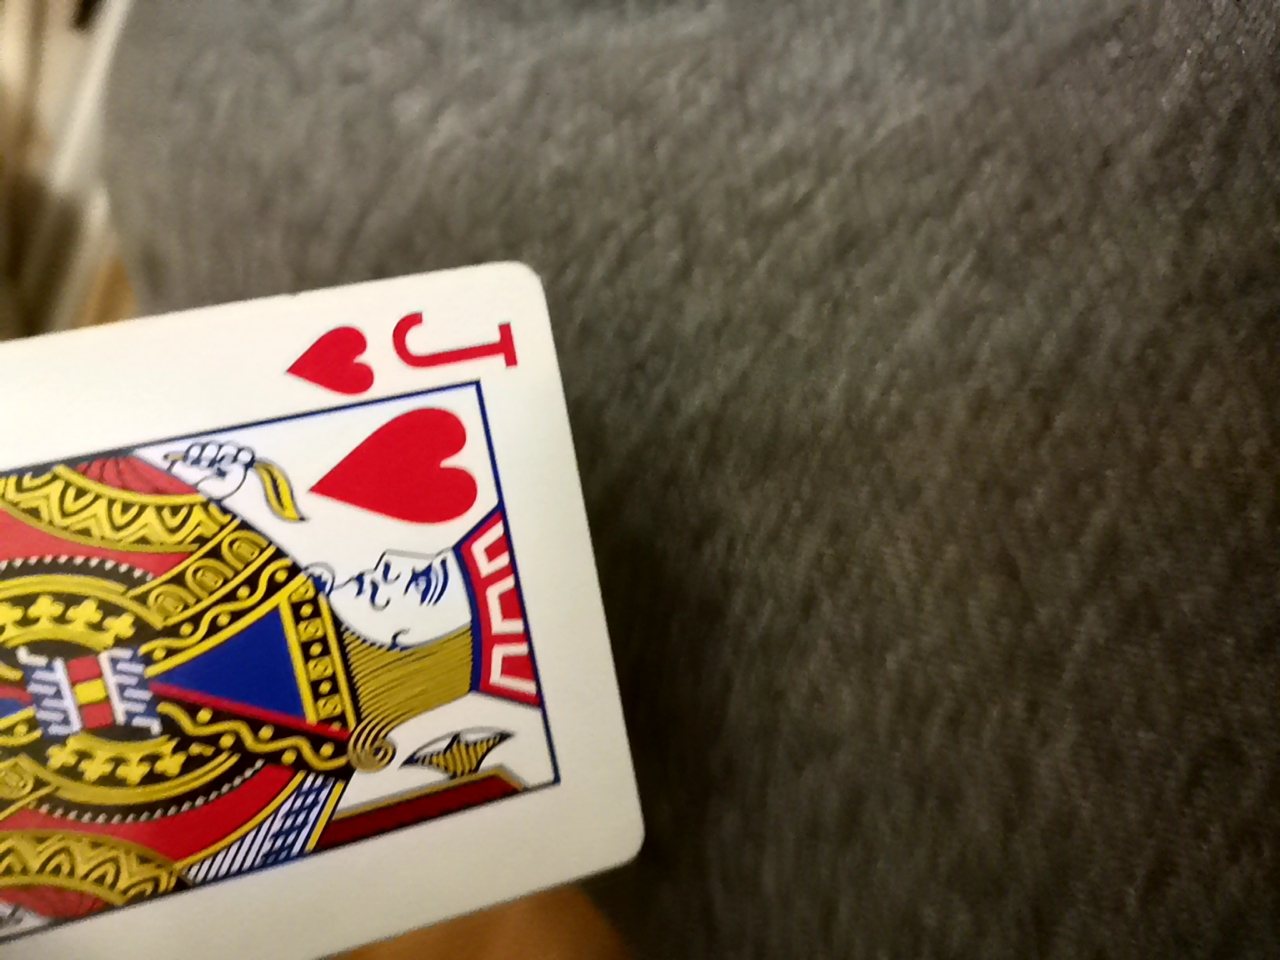hx j: (0, 269, 654, 953)
